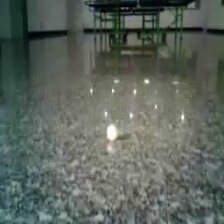w: (106, 122, 119, 141)
